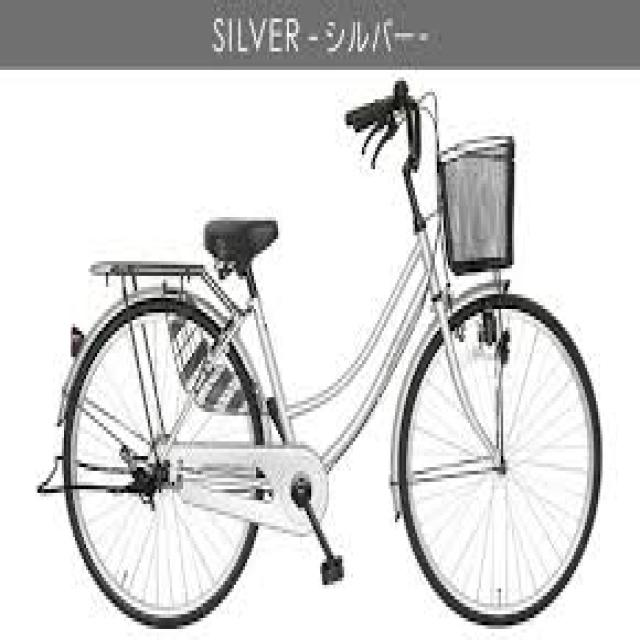basket: (437, 135, 516, 269)
